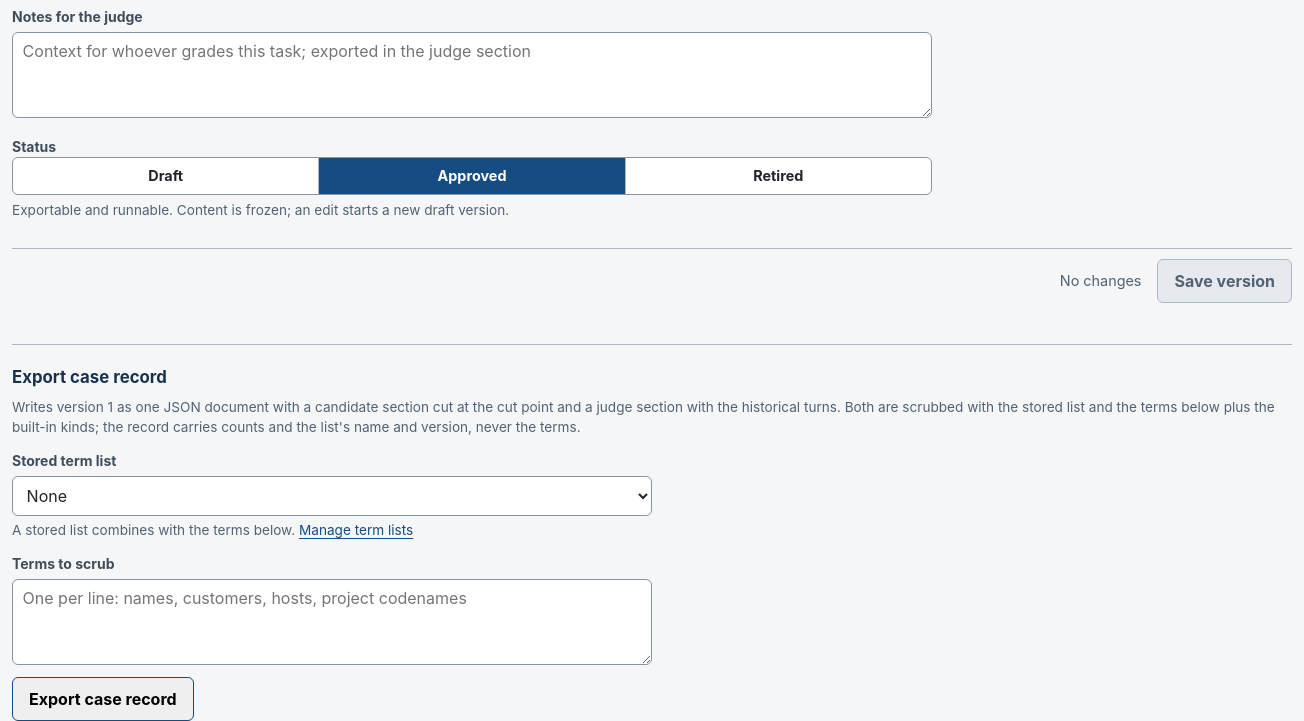
Test case: task editor › exports with a stored term list pinned to the version shown
The width and height of the screenshot is (1304, 721).
(page scrolled)
Select "program" in the dropdown labelled "Stored term list" at (332, 496), box [12,476,652,516]
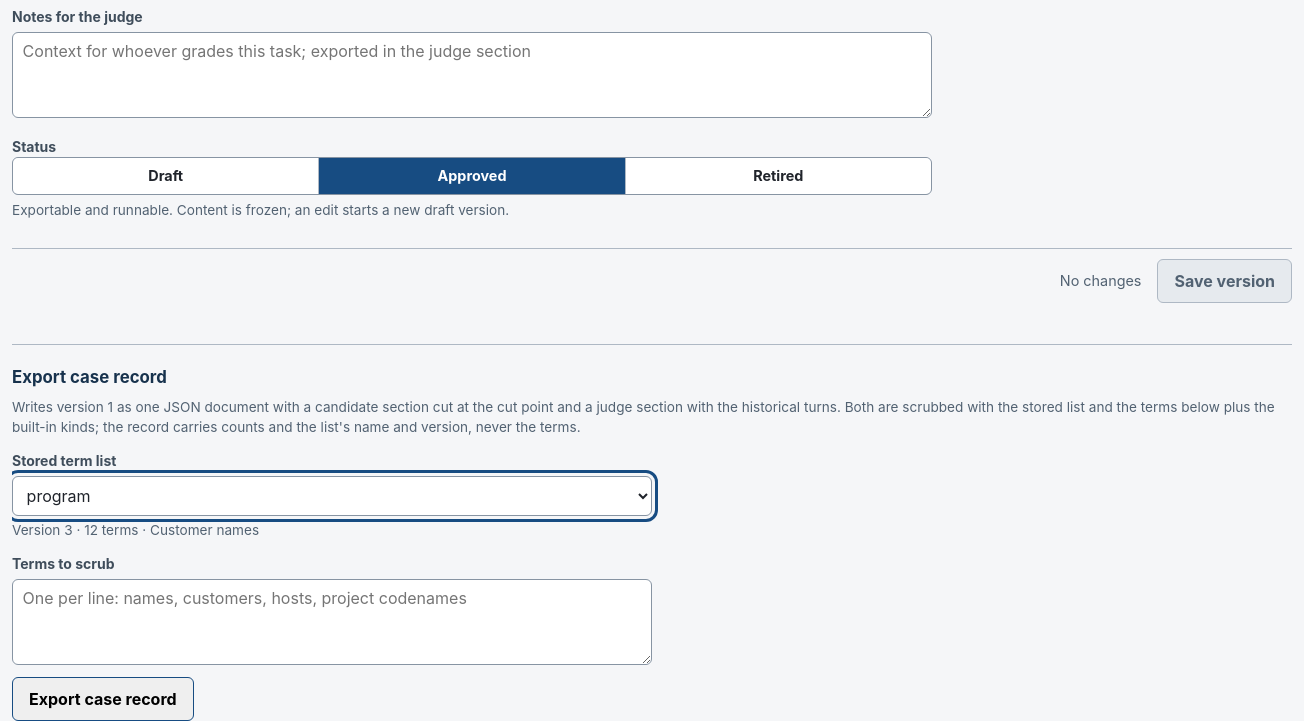
expect the text "Version 3 · 12 terms · Customer names" is shown: met, box [12,522,259,538]
Type "Extra" into the text box labelled "Terms to scrub".
click(332, 622); type("Extra")  # box [12,578,652,665]
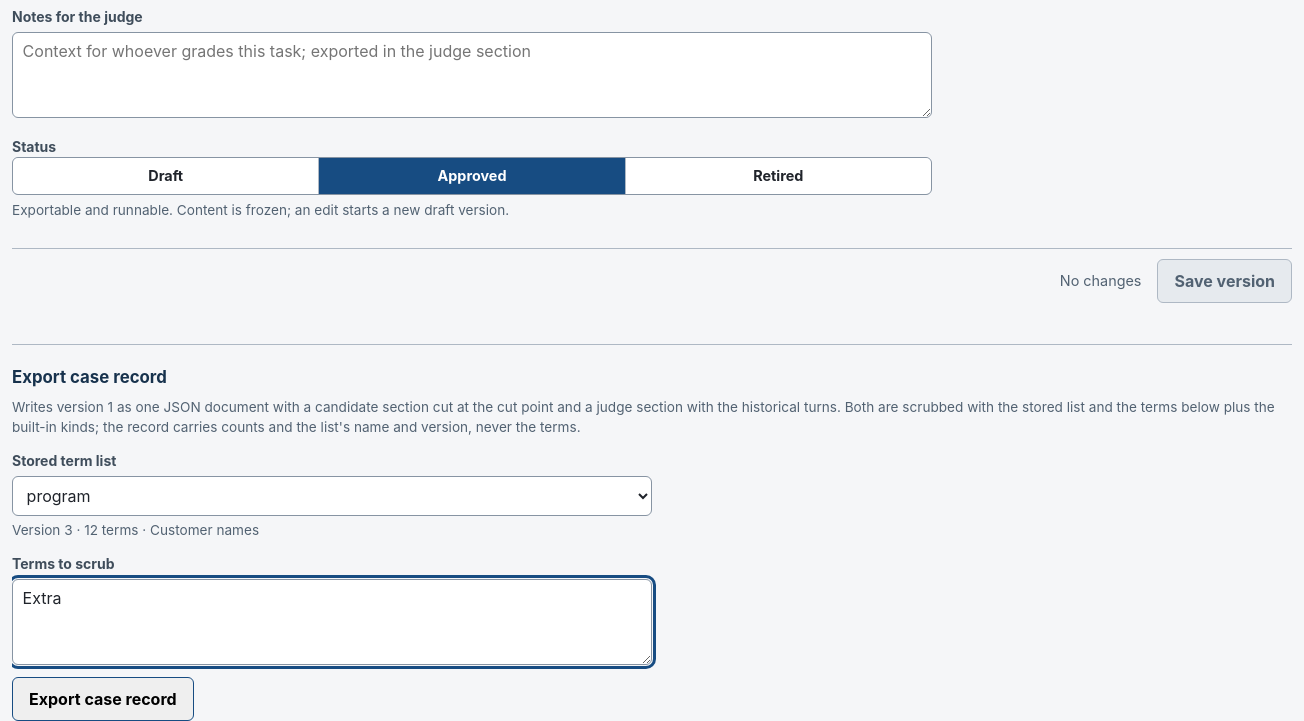
Click the button "Export case record".
click(103, 699)  # box [12,677,194,720]
(page scrolled)
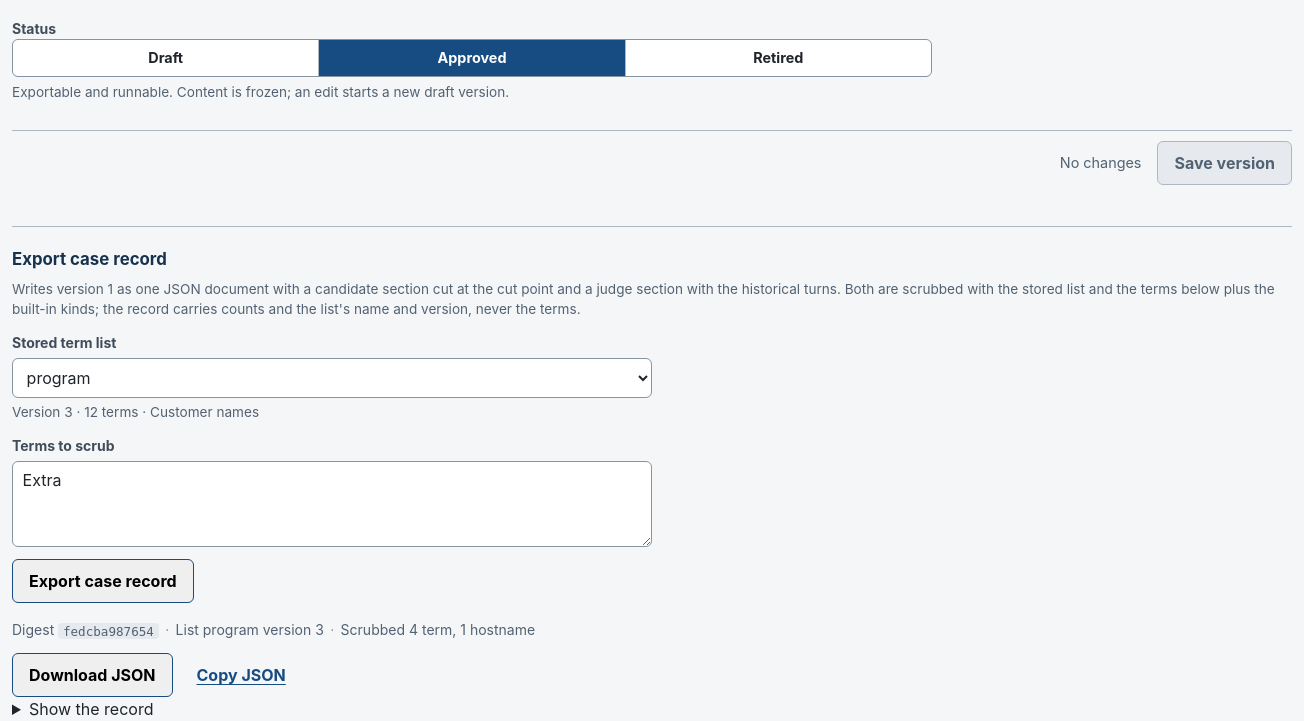
expect the text "Scrubbed 4 term, 1 hostname" is shown: met, box [341,619,535,641]
expect the text "List program version 3" is shown: met, box [176,619,334,641]
